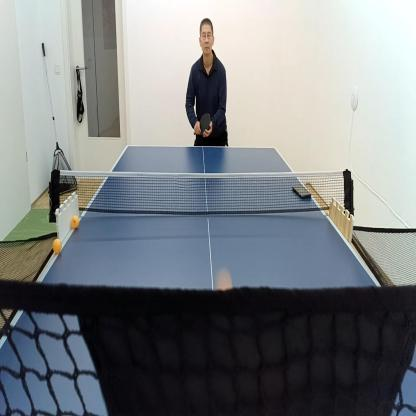Ball: (215, 266, 233, 292), (52, 236, 62, 255), (70, 214, 80, 231)
